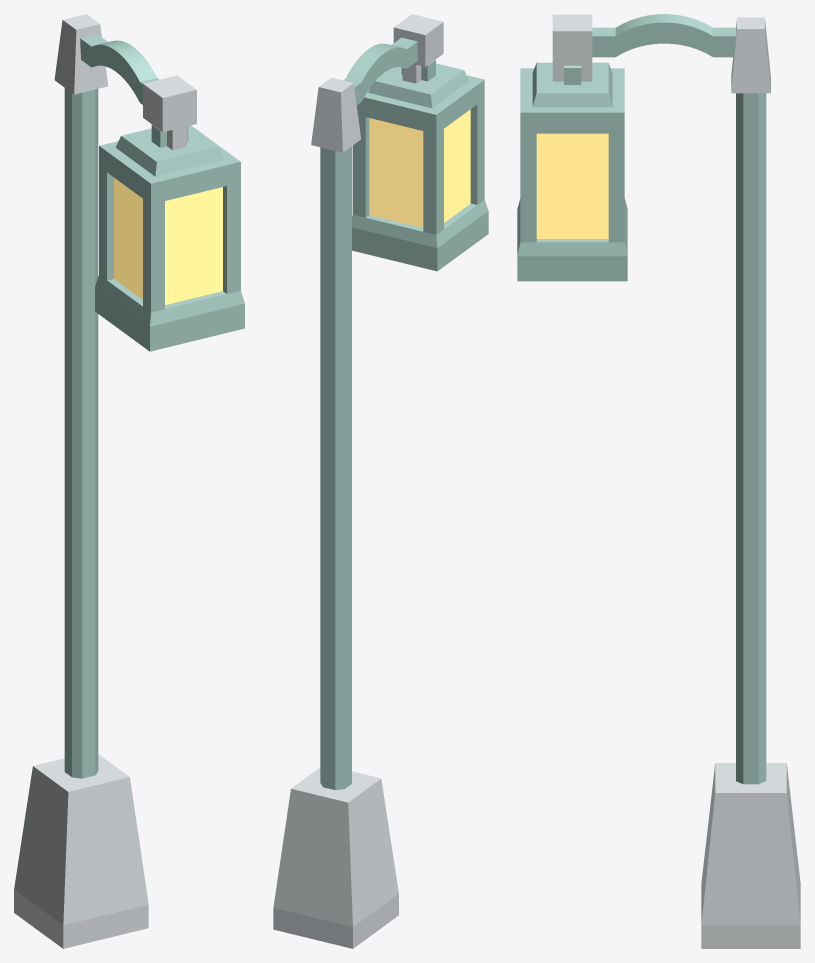
The model's file is lanternSingle.glb.
3 views of the same model, side by side, from view 1: azimuth 30°, elevation 25°; view 2: azimuth 150°, elevation 25°; view 3: azimuth 270°, elevation 25° (orthographic). The views are drawn at different scales.
Visible parts, largest first — view 1: lanternSingle(Clone); view 2: lanternSingle(Clone); view 3: lanternSingle(Clone).
Part boxes in pixels (bbox=[...]): lanternSingle(Clone): bbox=[14, 14, 244, 948]; lanternSingle(Clone): bbox=[273, 14, 488, 948]; lanternSingle(Clone): bbox=[517, 14, 800, 948].
Bounding box in the file's own units: 0.1459 × 1.33 × 0.3742.
